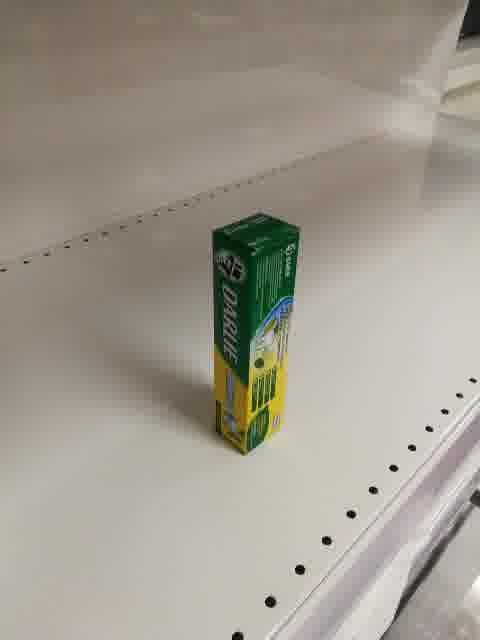toothpaste: (211, 213, 301, 457)
